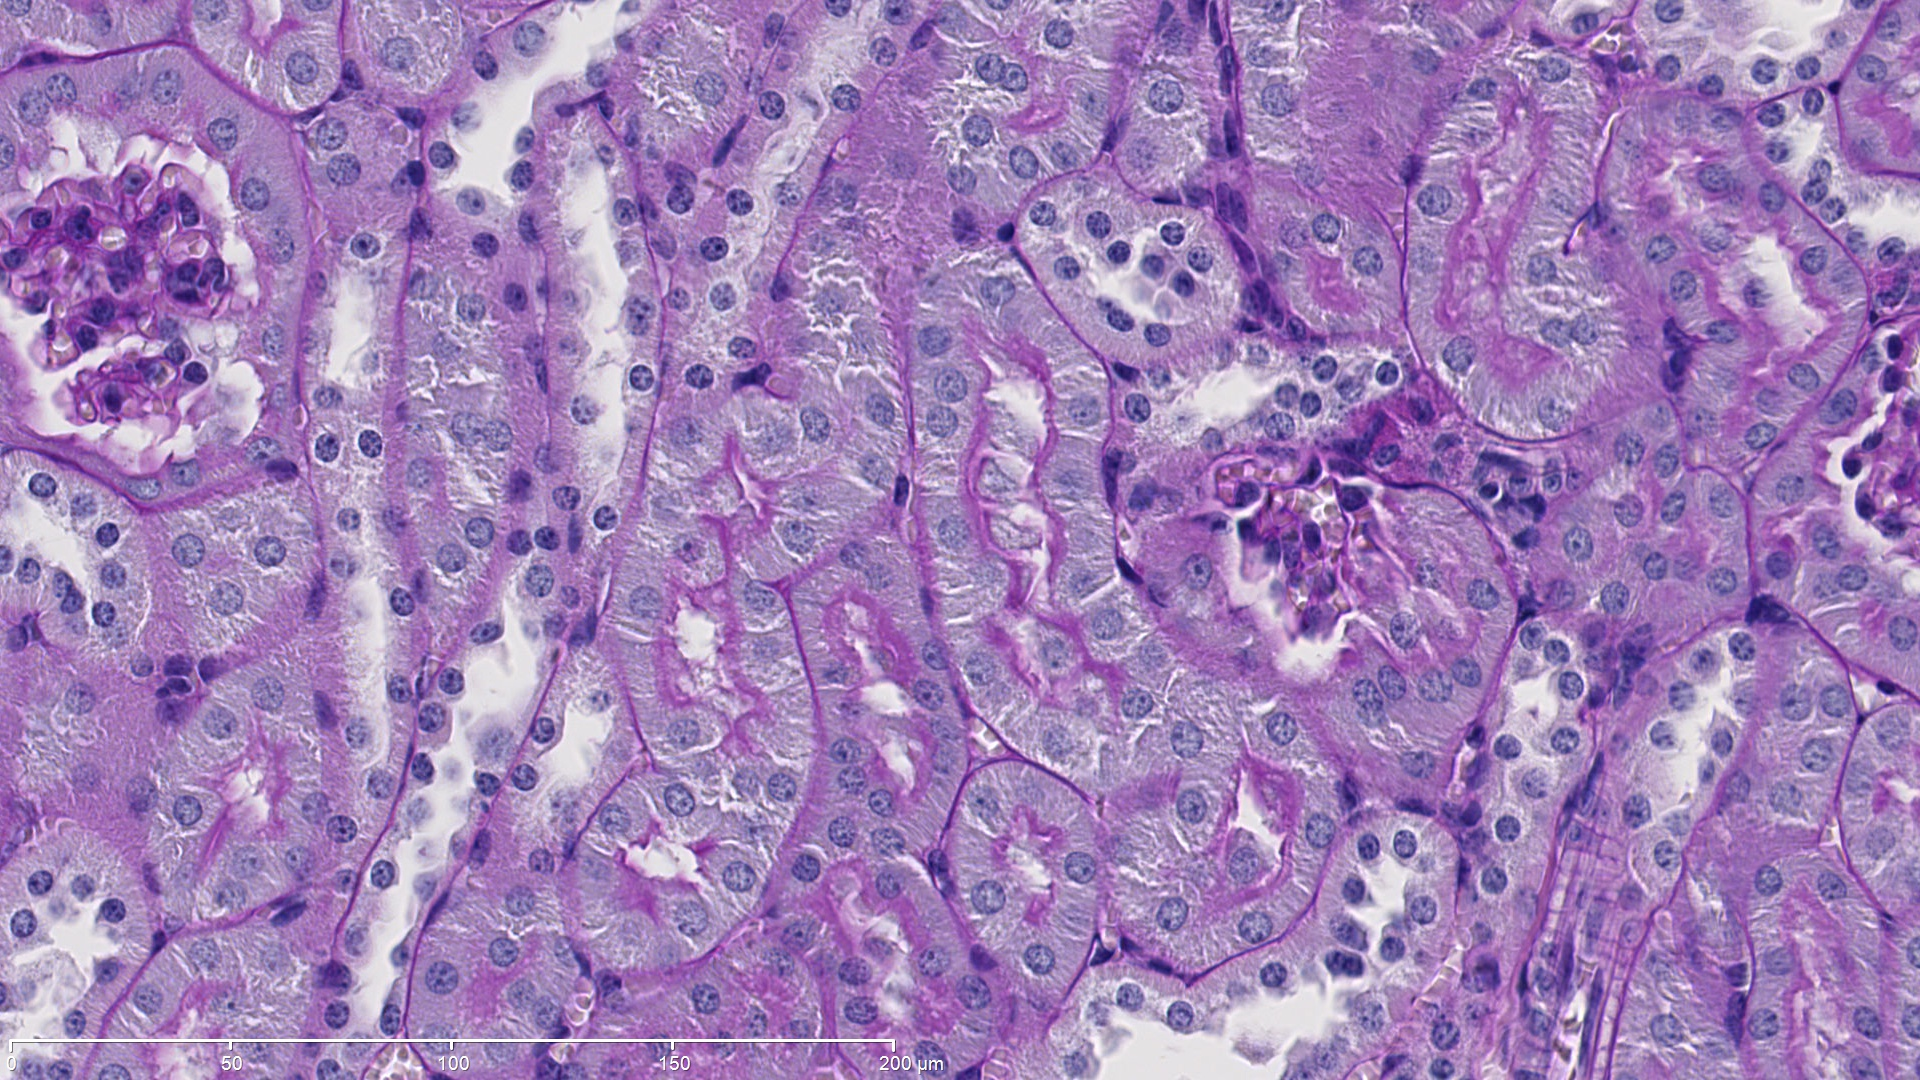Glomeruli: (3, 164, 260, 431), (1200, 386, 1462, 640)
